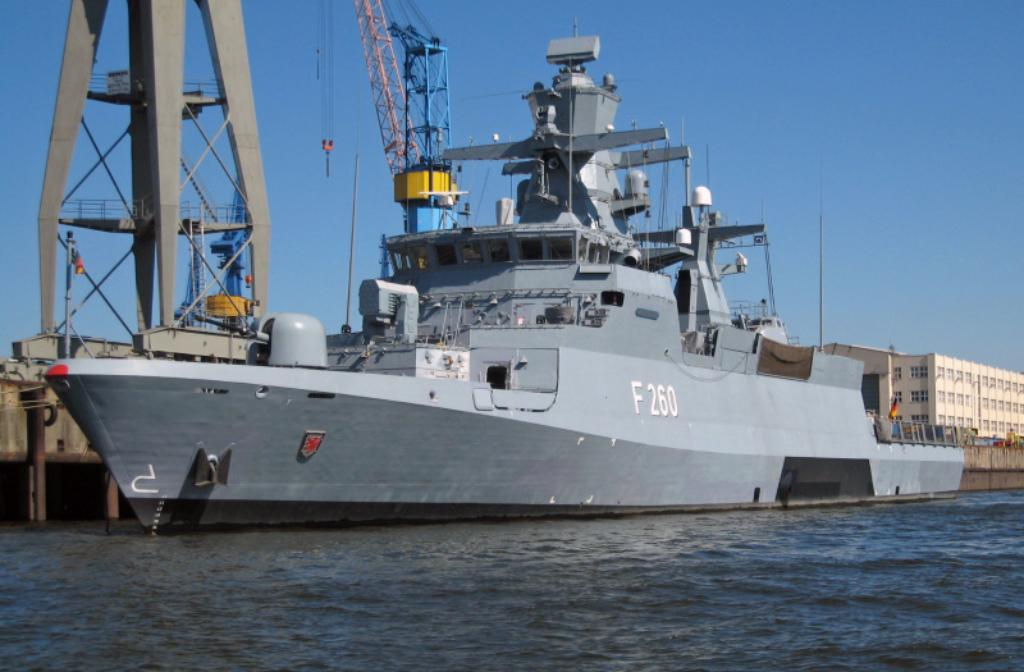Warship: (44, 21, 966, 531)
